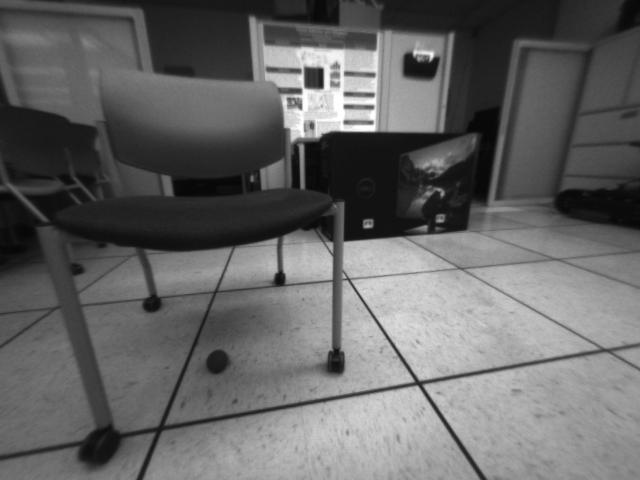dogtoy: (202, 344, 236, 376)
